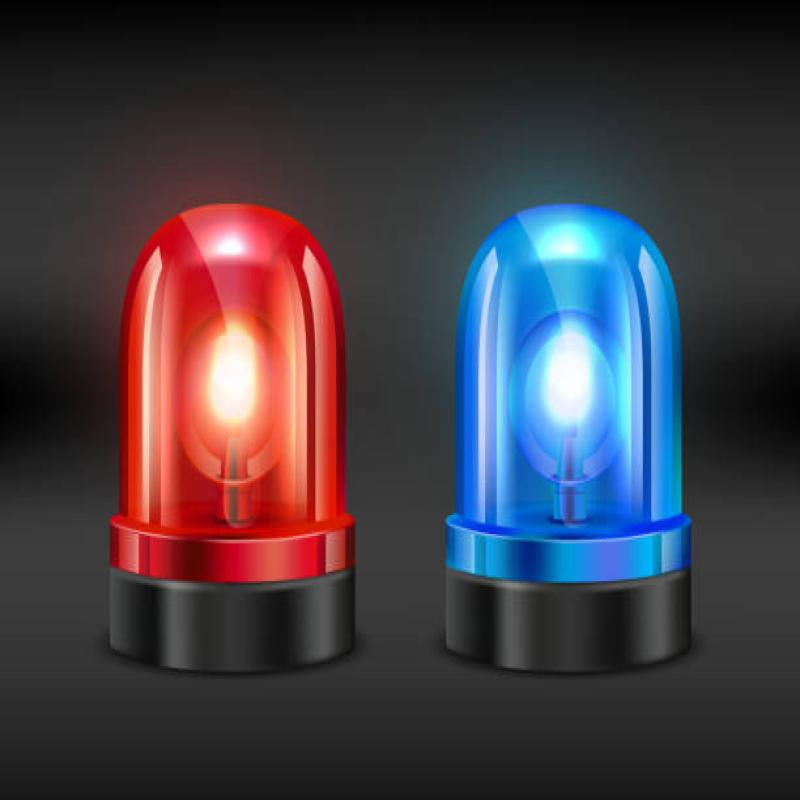AmbulanceSiren: (419, 202, 728, 704), (73, 183, 375, 694)
